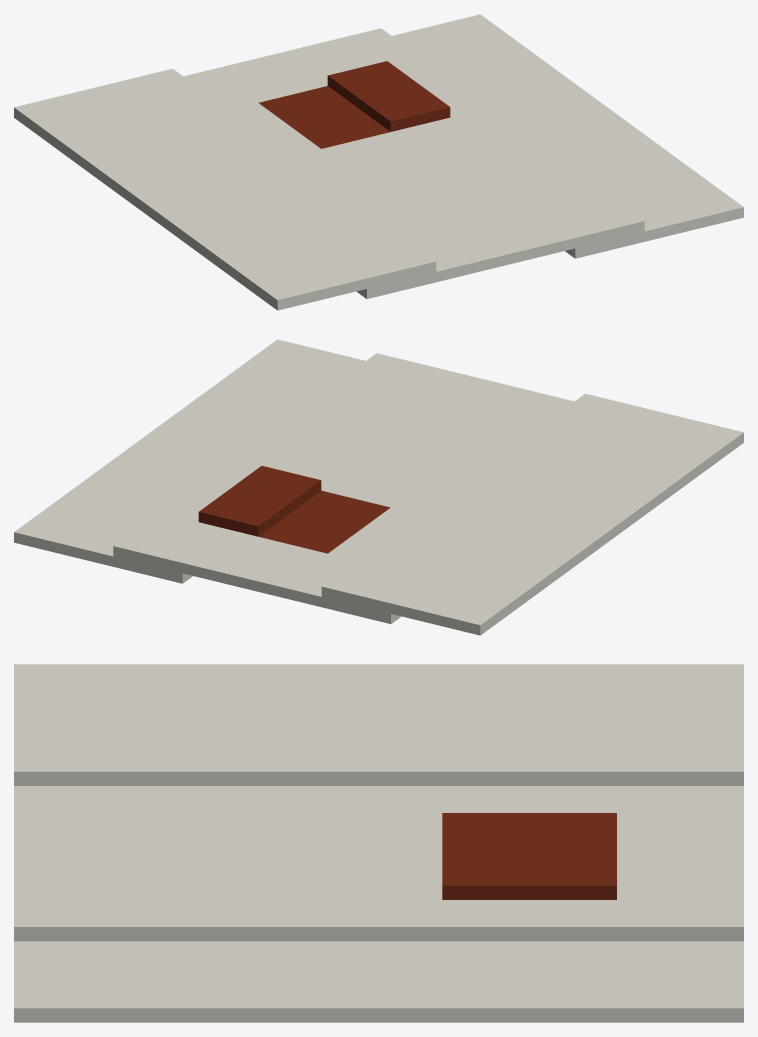
File: technical_bonnet.glb
3 renders of one model, top to bottom at view 1: azimuth 30°, elevation 25°; view 2: azimuth 150°, elevation 25°; view 3: azimuth 270°, elevation 25°, orthographic. The views are drawn at different scales.
Visible parts, largest first — view 1: body:compound; view 2: body:compound; view 3: body:compound.
Boxes of the visible parts, <box> form: body:compound: <box>14,14,743,310</box>; body:compound: <box>14,339,743,635</box>; body:compound: <box>14,664,743,1022</box>.
Size of the model in its own units: 1.47 by 0.0938 by 1.44.
